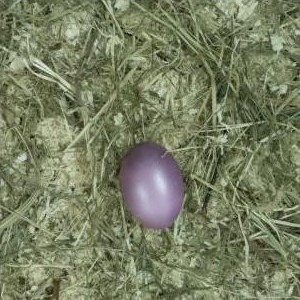egg: (120, 141, 186, 230)
